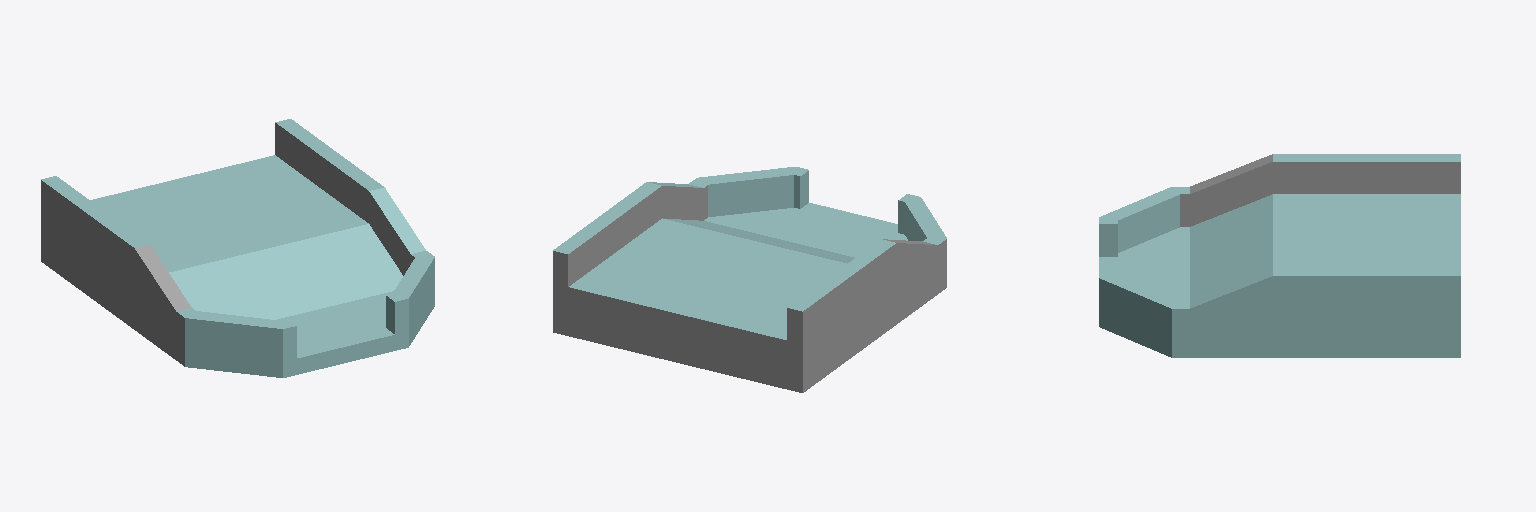
The model's file is platform-y-large.obj.
3 views of the same model, side by side, from view 1: azimuth 30°, elevation 25°; view 2: azimuth 150°, elevation 25°; view 3: azimuth 270°, elevation 25° (orthographic).
Parts seen in each view (by area): view 1: Mesh1 Platform__Y_Large1 Model; view 2: Mesh1 Platform__Y_Large1 Model; view 3: Mesh1 Platform__Y_Large1 Model.
Part boxes in pixels (bbox=[...]): Mesh1 Platform__Y_Large1 Model: bbox=[41, 119, 434, 377]; Mesh1 Platform__Y_Large1 Model: bbox=[553, 167, 946, 392]; Mesh1 Platform__Y_Large1 Model: bbox=[1099, 154, 1460, 357].
Bounding box in the file's own units: 4 × 1.25 × 5.